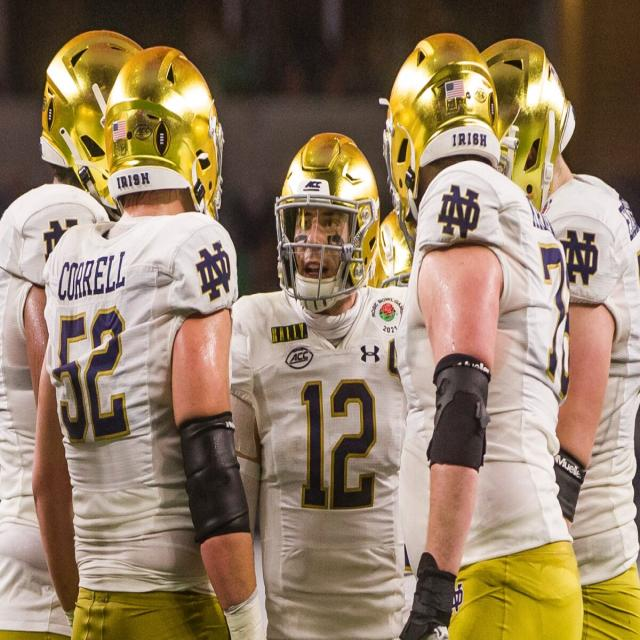illegal_helmet: (100, 44, 228, 228), (381, 27, 501, 222), (34, 26, 153, 218), (270, 124, 383, 318), (475, 32, 577, 219)
